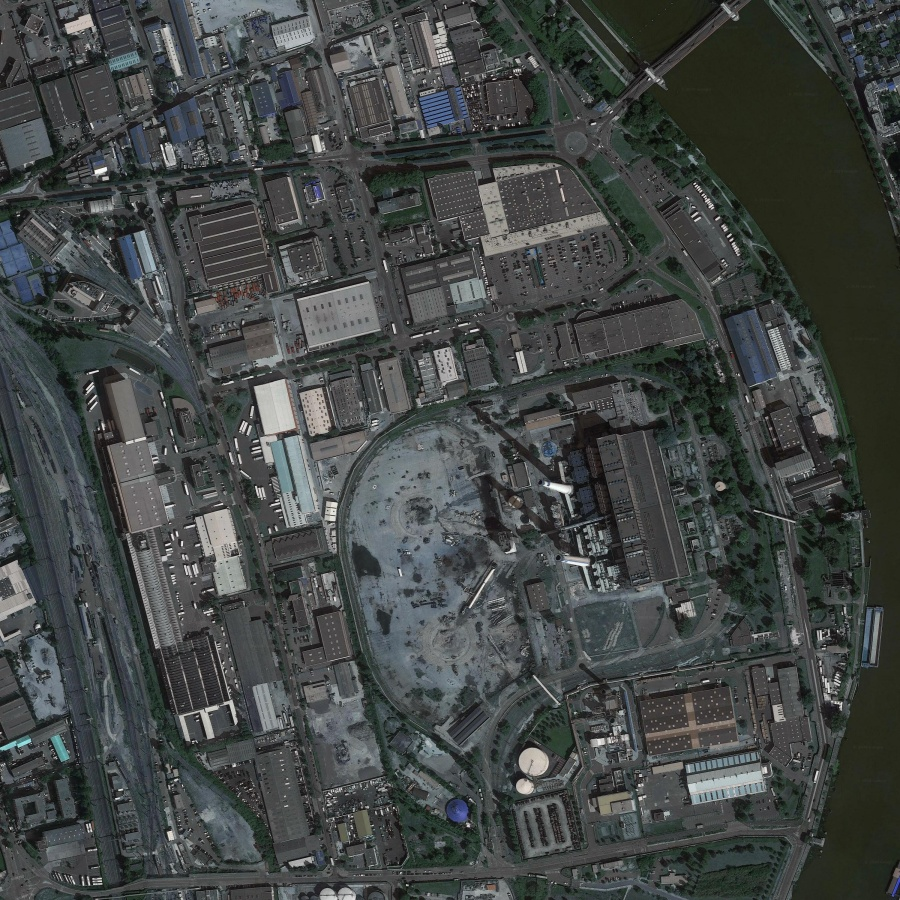PowerPlant: (466, 394, 671, 794)
